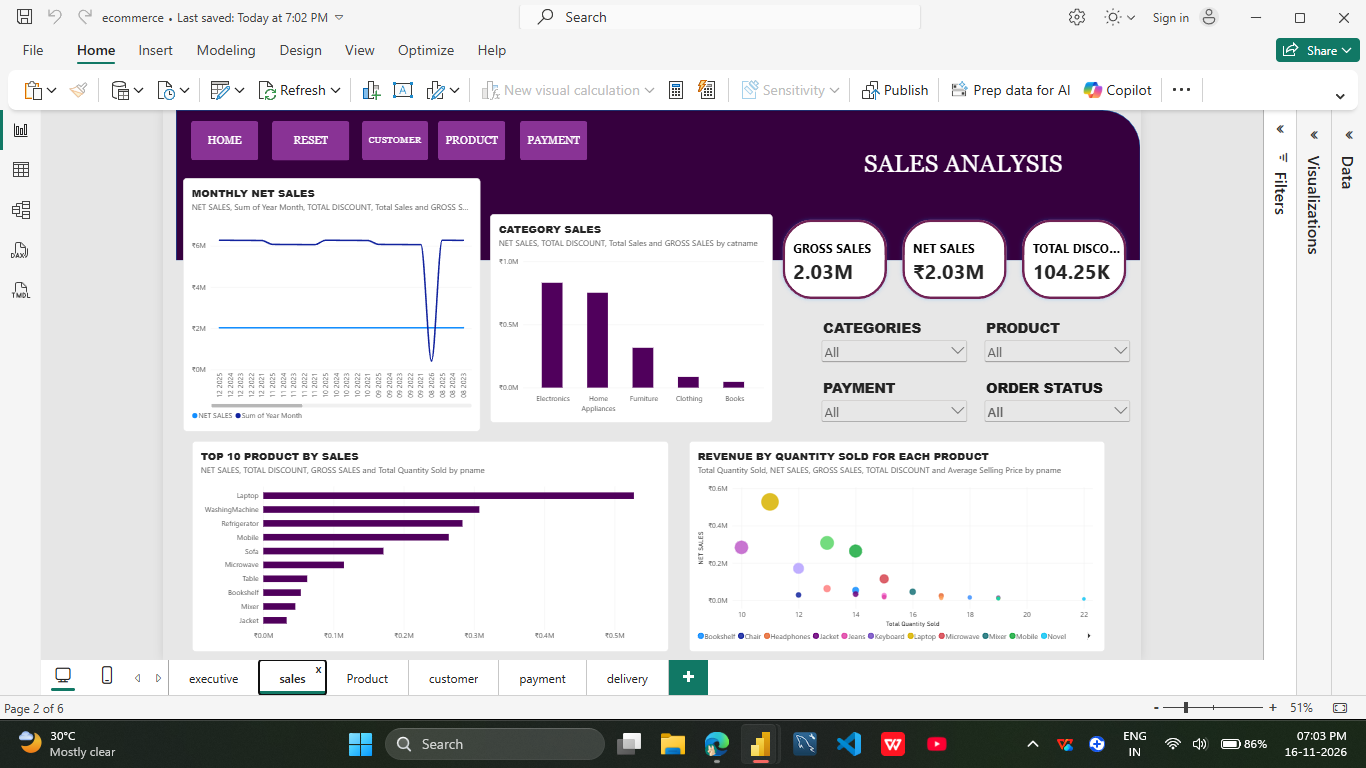

The dashboard page shown, as its layout file describes it:
{"tool":"powerbi","page":{"name":"sales","canvas":[1920,1080],"ordinal":1},"visuals":[{"type":"shape","box":[26.4,0,1893.3,295.3],"z":0,"group":"g1"},{"type":"group","id":"g1","title":"Group 1","box":[26.4,0,1893.3,295.3],"z":0},{"type":"actionButton","box":[55.1,22,132.2,77.1],"z":1000,"group":"g1"},{"type":"cardVisual","fields":{"Data":["ecom orderdetails.Gross Sales","ecom orderdetails.Net Sales","ecom orderdetails.Total Discount"]},"box":[1205.6,205,698.7,178.5],"z":1000},{"type":"actionButton","box":[541.1,22.3,132.2,77.1],"z":2000,"group":"g1"},{"type":"actionButton","box":[701,22.3,132.2,77.1],"z":2000},{"type":"lineChart","title":"MONTHLY NET SALES","fields":{"Category":["Calendar.Month Year"],"Y":["ecom orderdetails.Net Sales","Sum(Calendar.Year Month)"]},"box":[39.7,134.4,584.1,498.1],"z":2000},{"type":"actionButton","box":[391.3,22,130,77.1],"z":3000,"group":"g1"},{"type":"clusteredBarChart","title":"TOP 10 PRODUCT BY SALES","fields":{"Category":["ecom product.pname"],"Y":["ecom orderdetails.Net Sales"]},"box":[56.5,650.8,935.8,414.1],"z":3000},{"type":"clusteredColumnChart","title":"CATEGORY SALES","fields":{"Category":["ecom category.catname"],"Y":["ecom orderdetails.Net Sales"]},"box":[641.4,205,555.4,410],"z":4000},{"type":"scatterChart","title":"REVENUE BY QUANTITY SOLD FOR EACH PRODUCT","fields":{"Series":["ecom product.pname"],"Size":["ecom orderdetails.Gross Sales"],"X":["ecom orderdetails.Total Quantity Sold"],"Y":["ecom orderdetails.Net Sales"]},"box":[1032.6,650.8,817.5,414.1],"z":5000},{"type":"slicer","fields":{"Values":["ecom category.catname"]},"box":[1288.1,408.7,295.8,102.2],"z":6000},{"type":"slicer","fields":{"Values":["ecom product.pname"]},"box":[1608.1,408.7,295.8,102.2],"z":7000},{"type":"textbox","box":[1376.8,78,527.1,99.5],"z":8000},{"type":"slicer","fields":{"Values":["ecom payment.payment_status"]},"box":[1288.1,527.1,295.8,86.1],"z":9000},{"type":"actionButton","box":[214.3,22.3,152.1,77.7],"z":10000},{"type":"slicer","title":"ORDER STATUS","fields":{"Values":["ecom orderss.ordstatus"]},"box":[1608.1,527.1,295.8,86.1],"z":11000}]}

Visuals, with their boxes on the page's 1920x1080 design canvas (x1, y1, x2, y2). These are canvas units, not pixel positions in the 1366x768 screenshot, which may show the page scaled, cropped or inside an application window:
shape: <box>26,0,1920,295</box>
"Group 1" group: <box>26,0,1920,295</box>
actionButton: <box>55,22,187,99</box>
cardVisual - ecom orderdetails.Gross Sales x ecom orderdetails.Net Sales: <box>1206,205,1904,384</box>
actionButton: <box>541,22,673,99</box>
actionButton: <box>701,22,833,99</box>
"MONTHLY NET SALES" lineChart: <box>40,134,624,632</box>
actionButton: <box>391,22,521,99</box>
"TOP 10 PRODUCT BY SALES" clusteredBarChart: <box>56,651,992,1065</box>
"CATEGORY SALES" clusteredColumnChart: <box>641,205,1197,615</box>
"REVENUE BY QUANTITY SOLD FOR EACH PRODUCT" scatterChart: <box>1033,651,1850,1065</box>
slicer - ecom category.catname: <box>1288,409,1584,511</box>
slicer - ecom product.pname: <box>1608,409,1904,511</box>
textbox: <box>1377,78,1904,178</box>
slicer - ecom payment.payment_status: <box>1288,527,1584,613</box>
actionButton: <box>214,22,366,100</box>
"ORDER STATUS" slicer: <box>1608,527,1904,613</box>
